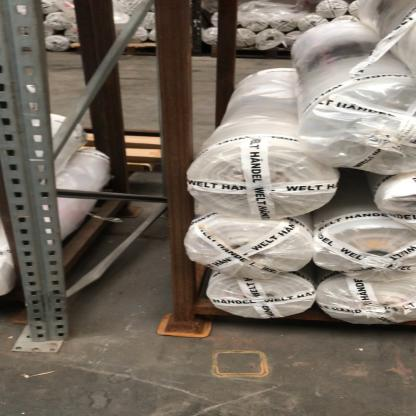vertical_damage: (14, 269, 75, 357)
